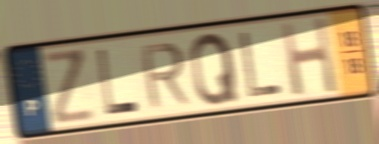H: (278, 13, 341, 100)
L: (237, 29, 285, 101), (95, 46, 141, 118)
Q: (189, 29, 242, 109)
R: (138, 39, 193, 112)
Z: (41, 45, 99, 127)
